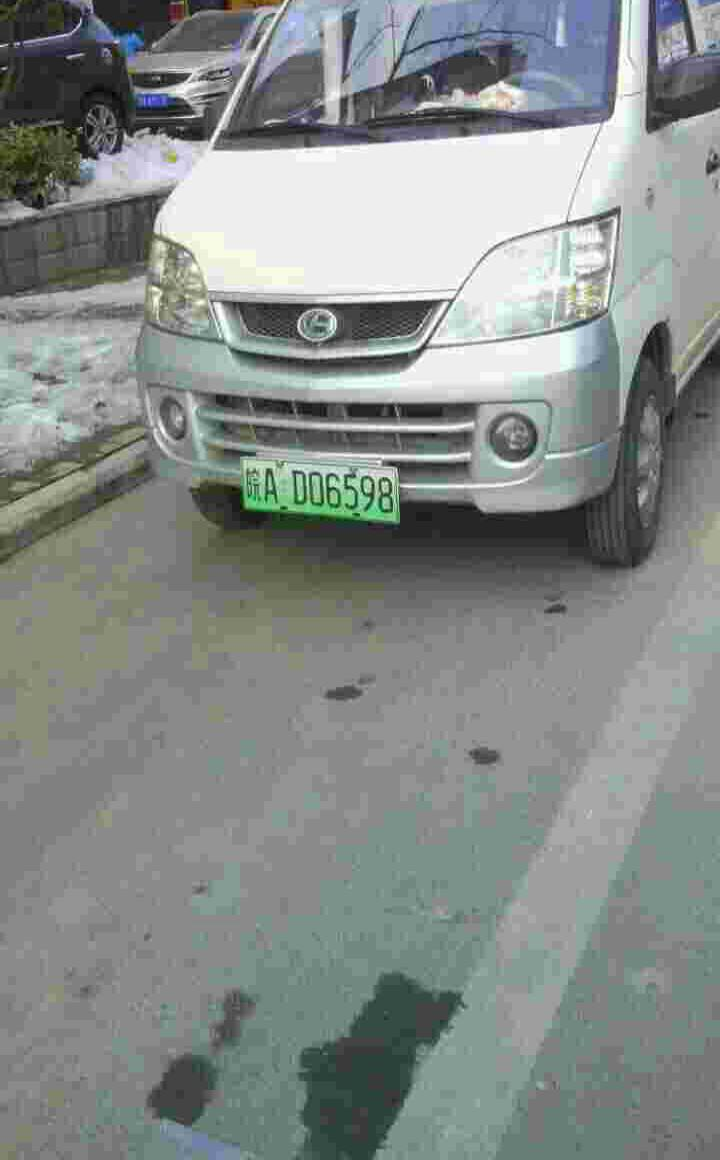car: (229, 448, 410, 532)
